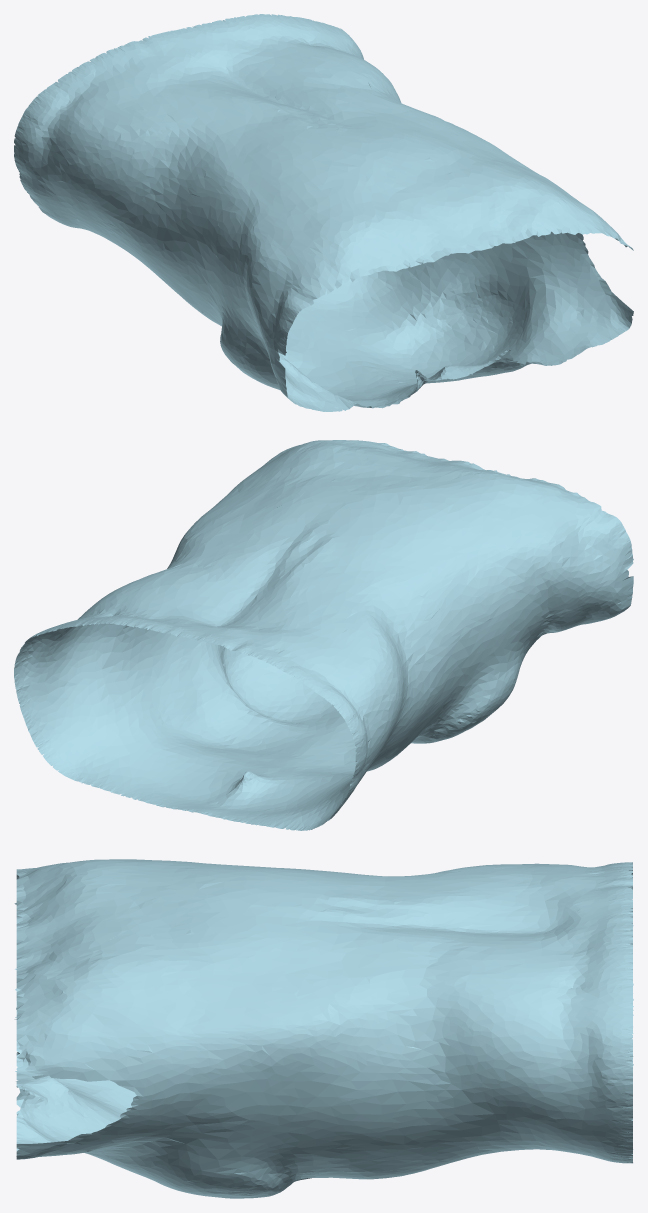
The model's file is skin.obj.
3 views of the same model, one above another, from view 1: azimuth 30°, elevation 25°; view 2: azimuth 150°, elevation 25°; view 3: azimuth 270°, elevation 25° (orthographic). The views are drawn at different scales.
Parts seen in each view (by area): view 1: grp1; view 2: grp1; view 3: grp1.
Boxes of the visible parts, x1,y1,x2,y2 form: grp1: (14, 14, 633, 411); grp1: (14, 440, 633, 830); grp1: (14, 859, 633, 1198).
Bounding box in the file's own units: 359 × 225 × 491.
